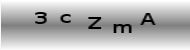3: (34, 11, 48, 25)
A: (139, 12, 156, 25)
Z: (87, 16, 101, 30)
c: (59, 12, 72, 24)
m: (111, 23, 131, 34)
